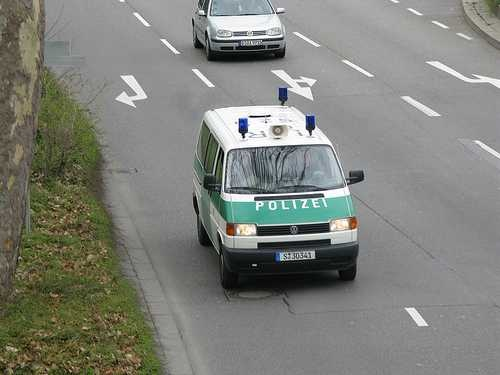Police Van: (189, 101, 363, 290)
